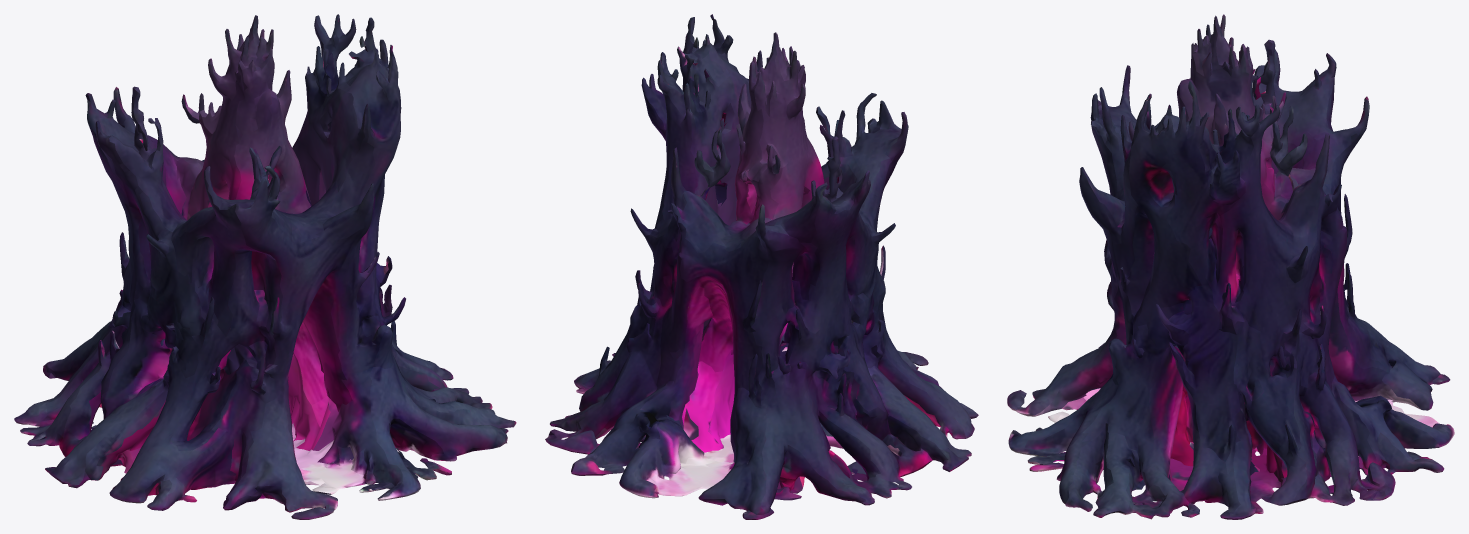
The model's file is root-northwest-generated-2026-04-19T17-13-41-911Z.high.glb.
3 renders of one model, left to right at view 1: azimuth 30°, elevation 25°; view 2: azimuth 150°, elevation 25°; view 3: azimuth 270°, elevation 25°, orthographic. The views are drawn at different scales.
Parts seen in each view (by area): view 1: temp_mesh.ply; view 2: temp_mesh.ply; view 3: temp_mesh.ply.
Boxes of the visible parts, left/top/right/bottom form: temp_mesh.ply: left=14, top=14, right=516, bottom=519; temp_mesh.ply: left=545, top=14, right=978, bottom=519; temp_mesh.ply: left=1007, top=14, right=1454, bottom=519.
Size of the model in its own units: 1.97 by 1.94 by 1.93.
1 material, 1 textured.
